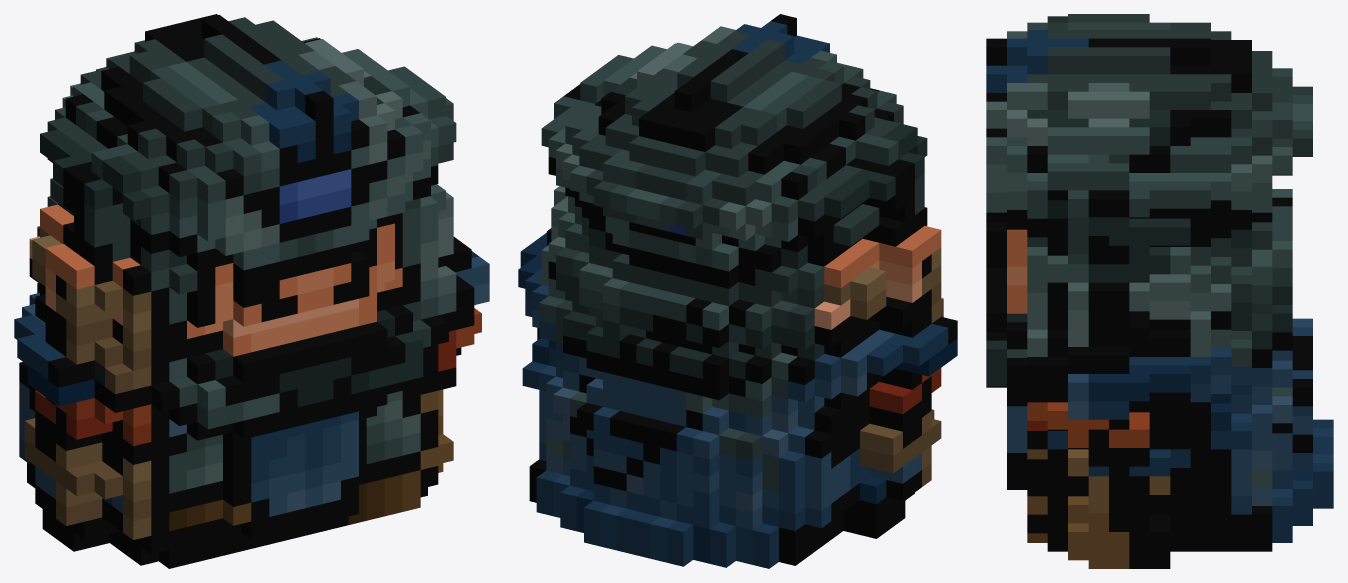
Rendered from Icon_716_01.obj.
3 renders of one model, left to right at view 1: azimuth 30°, elevation 25°; view 2: azimuth 150°, elevation 25°; view 3: azimuth 270°, elevation 25°, orthographic. The views are drawn at different scales.
Bounding box in the file's own units: 2.4 × 2.4 × 1.7.
